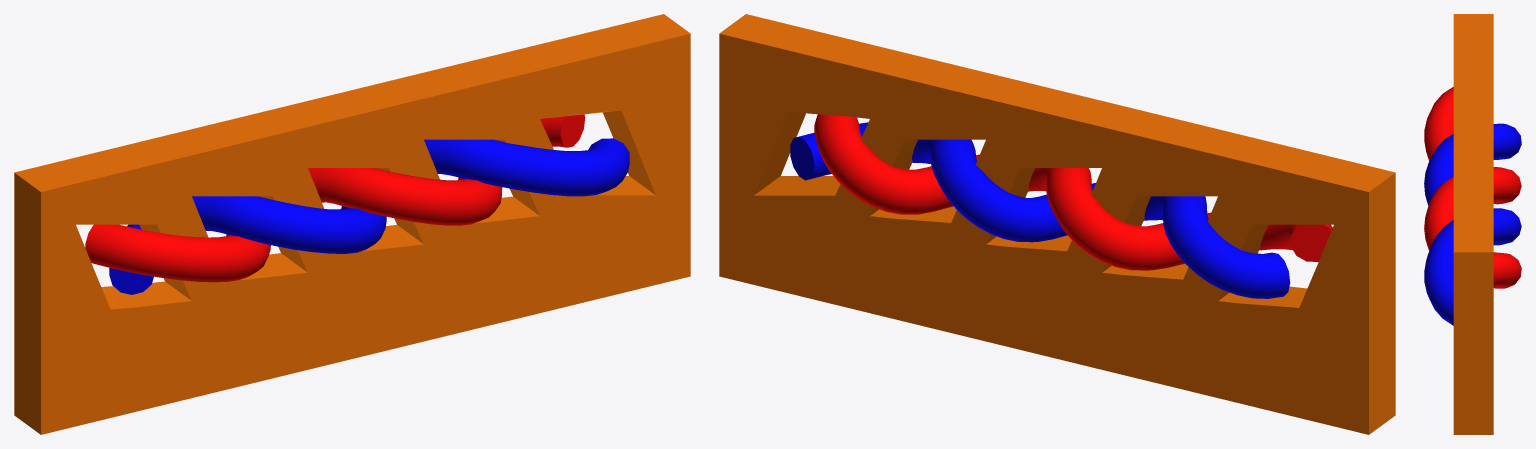
Rendered from z-twist.glb.
3 renders of one model, left to right at view 1: azimuth 30°, elevation 25°; view 2: azimuth 150°, elevation 25°; view 3: azimuth 270°, elevation 25°, orthographic. The views are drawn at different scales.
Parts seen in each view (by area): view 1: Bottom Applied, Top Applied, Z Red, Z Blue; view 2: Bottom Applied, Top Applied, Z Blue, Z Red; view 3: Top Applied, Z Red, Bottom Applied, Z Blue.
Boxes of the visible parts, x1,y1,x2,y2 form: Bottom Applied: (14,106,690,434); Top Applied: (14,14,690,275); Z Red: (109,138,629,294); Z Blue: (85,114,585,282); Bottom Applied: (719,107,1395,434); Top Applied: (719,14,1395,276); Z Blue: (814,114,1332,270); Z Red: (790,122,1290,298); Top Applied: (1453,14,1493,314); Z Red: (1424,123,1521,325); Bottom Applied: (1453,307,1493,434); Z Blue: (1424,87,1521,288).
Size of the model in its own units: 28 by 10 by 4.85.
